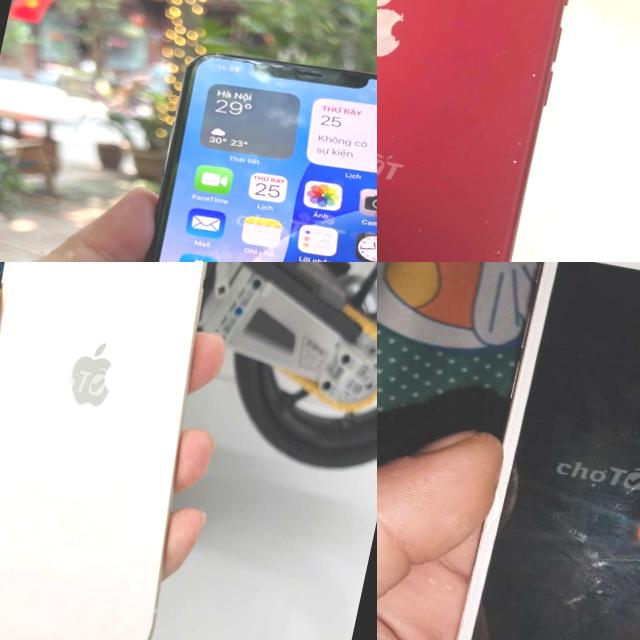gen_11: (0, 262, 265, 640), (92, 26, 377, 262)
gen_6: (425, 262, 640, 640)
gen_7_8: (377, 0, 612, 262)
